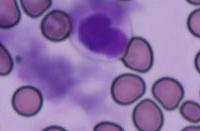M: (68, 0, 132, 61)
